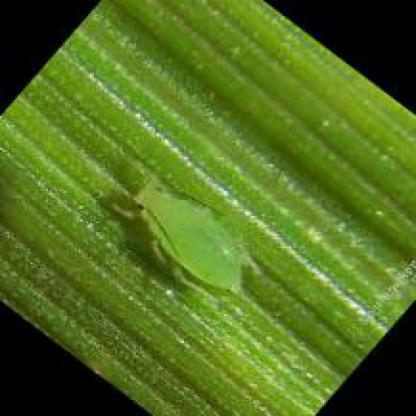schizaphis graminum: (136, 182, 259, 299)
